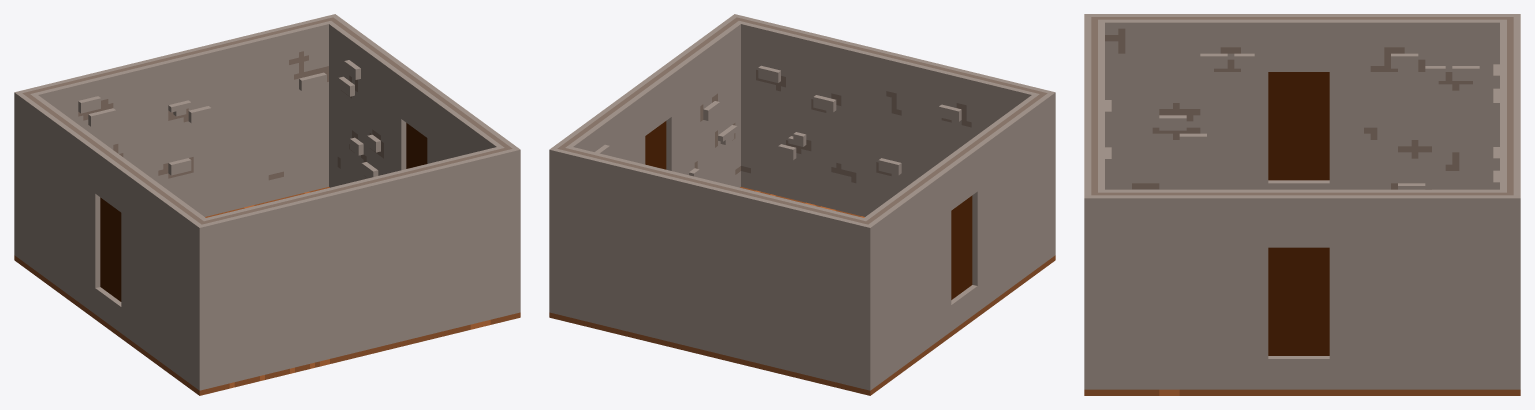
Rendered from tower.gltf.
3 views of the same model, side by side, from view 1: azimuth 30°, elevation 25°; view 2: azimuth 150°, elevation 25°; view 3: azimuth 270°, elevation 25° (orthographic). The views are drawn at different scales.
Parts seen in each view (by area): view 1: Stone, Wood, Glass; view 2: Stone, Wood, Glass; view 3: Stone, Glass, Wood.
Boxes of the visible parts, left/top/right/bottom form: Stone: left=14, top=14, right=520, bottom=390; Wood: left=14, top=187, right=520, bottom=395; Glass: left=100, top=123, right=427, bottom=301; Stone: left=549, top=14, right=1055, bottom=390; Wood: left=549, top=187, right=1055, bottom=395; Glass: left=645, top=121, right=972, bottom=299; Stone: left=1084, top=14, right=1520, bottom=389; Glass: left=1268, top=72, right=1329, bottom=355; Wood: left=1084, top=389, right=1520, bottom=395.
Size of the model in its own units: 64 by 32 by 64.
Materials: 3 (3 with a texture image).
